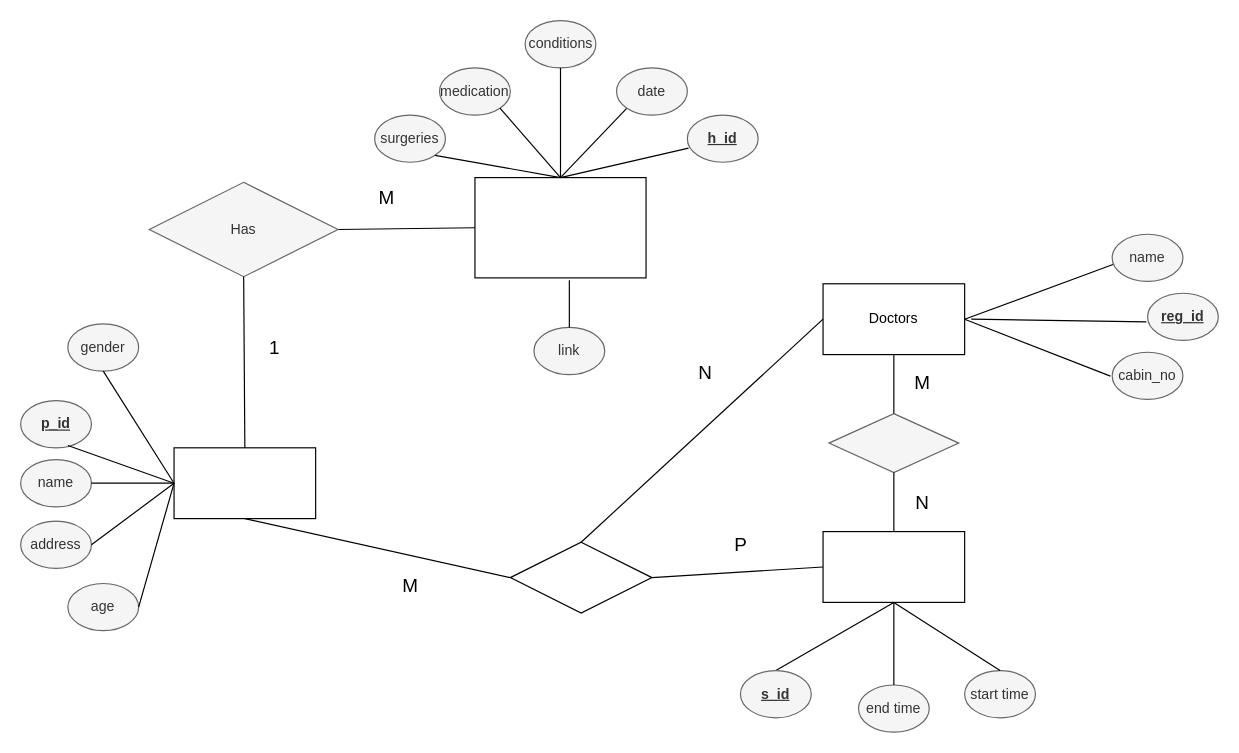
Image size: 1239x753. Some labels were removed from this diagram. The shapes that lost their labels are listed below. From the top down, each one's centre as x and y in pixels, then its label:
point 560,227: Medical History
point 893,442: Follow
point 244,483: Patient
point 580,577: Appointments
point 893,566: Schedule
